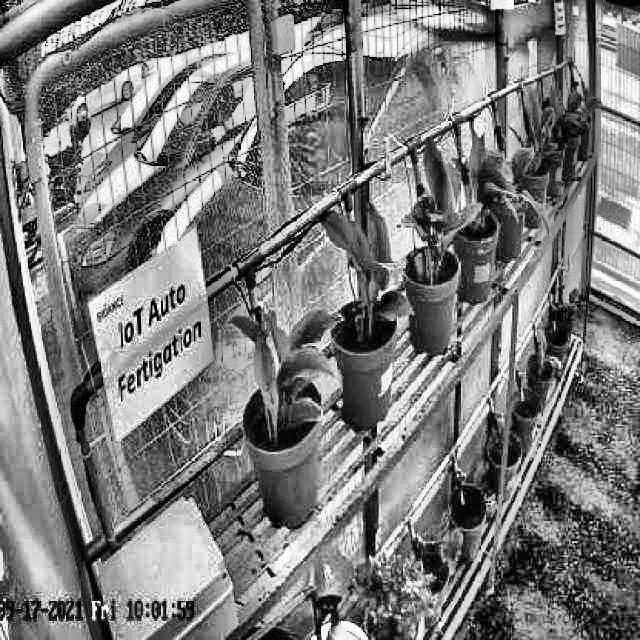plants: (228, 307, 344, 422), (318, 202, 414, 324), (402, 137, 478, 271), (467, 125, 516, 238)
